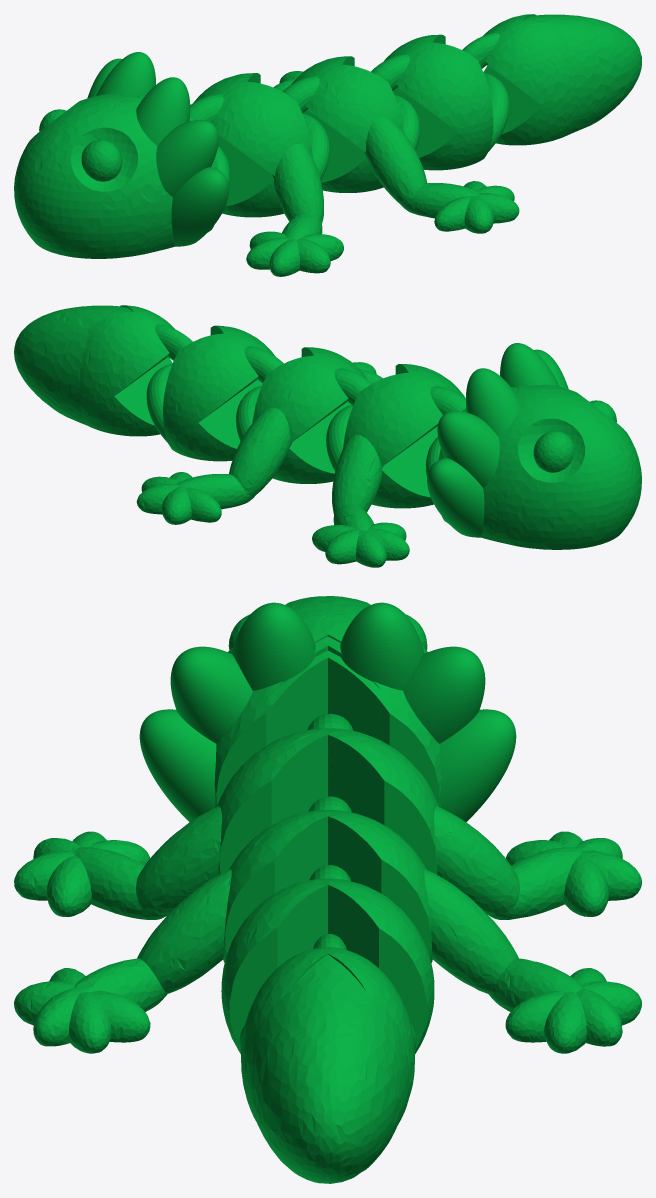
File: axolotl.glb
3 renders of one model, top to bottom at view 1: azimuth 30°, elevation 25°; view 2: azimuth 150°, elevation 25°; view 3: azimuth 270°, elevation 25°, orthographic. The views are drawn at different scales.
Parts seen in each view (by area): view 1: Axolotl.stl_fil1; view 2: Axolotl.stl_fil1; view 3: Axolotl.stl_fil1.
Part boxes in pixels (box(x1,y1,x2,y2)): Axolotl.stl_fil1: box(14, 14, 641, 276); Axolotl.stl_fil1: box(14, 305, 641, 567); Axolotl.stl_fil1: box(14, 596, 641, 1183).
Size of the model in its own units: 0.043 by 0.0101 by 0.0243.
